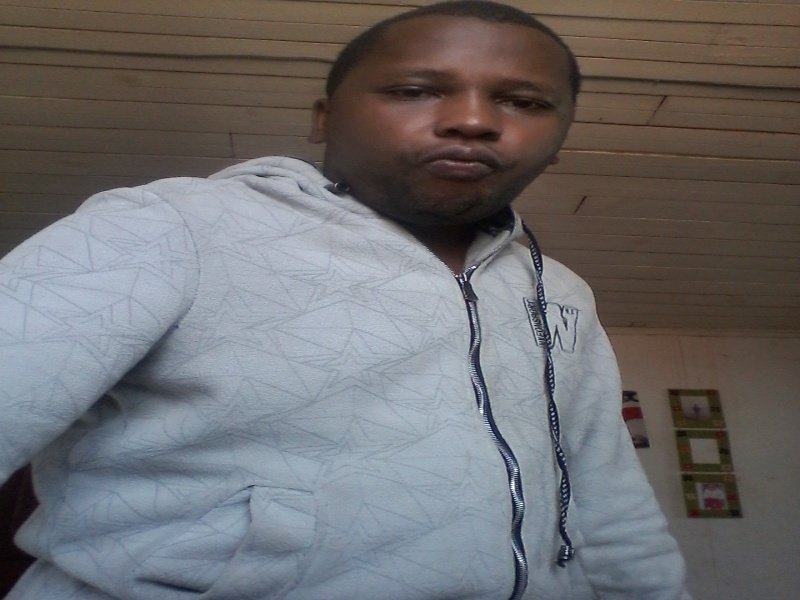TsisyArotava: (313, 4, 601, 252)
